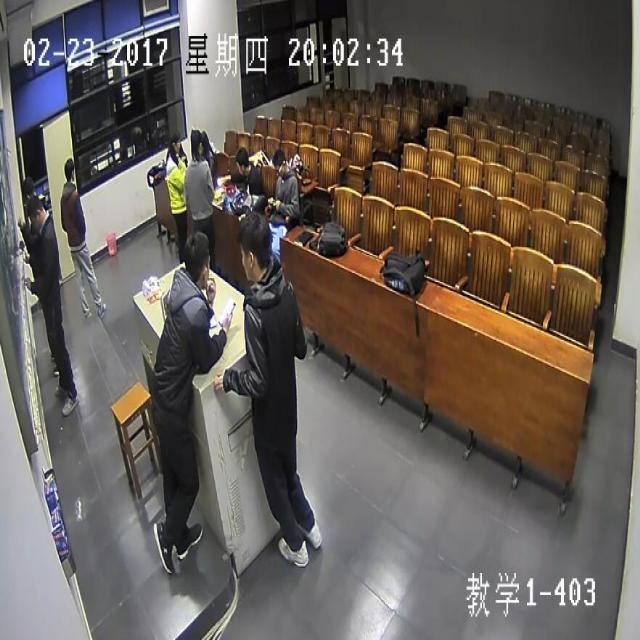person: (235, 202, 275, 289), (181, 225, 213, 290), (23, 193, 47, 233), (268, 143, 287, 178), (232, 140, 250, 176), (21, 174, 37, 202), (187, 124, 202, 152), (168, 127, 182, 156), (197, 125, 211, 152), (62, 157, 76, 183)
